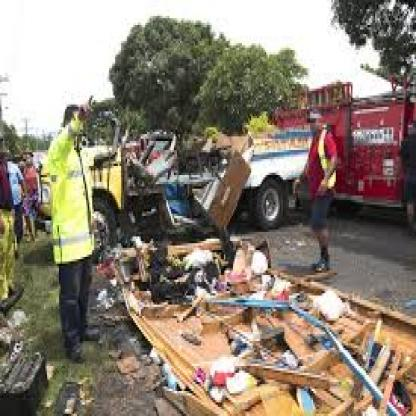accident: (64, 119, 375, 358)
